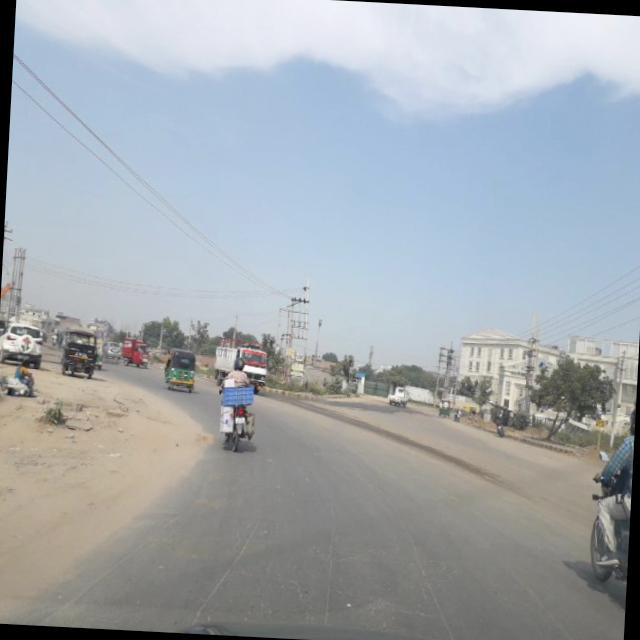pothole: (397, 522, 460, 640), (188, 522, 255, 632), (308, 520, 356, 634), (482, 543, 546, 604), (108, 519, 174, 576), (40, 572, 104, 628), (541, 604, 588, 640)
